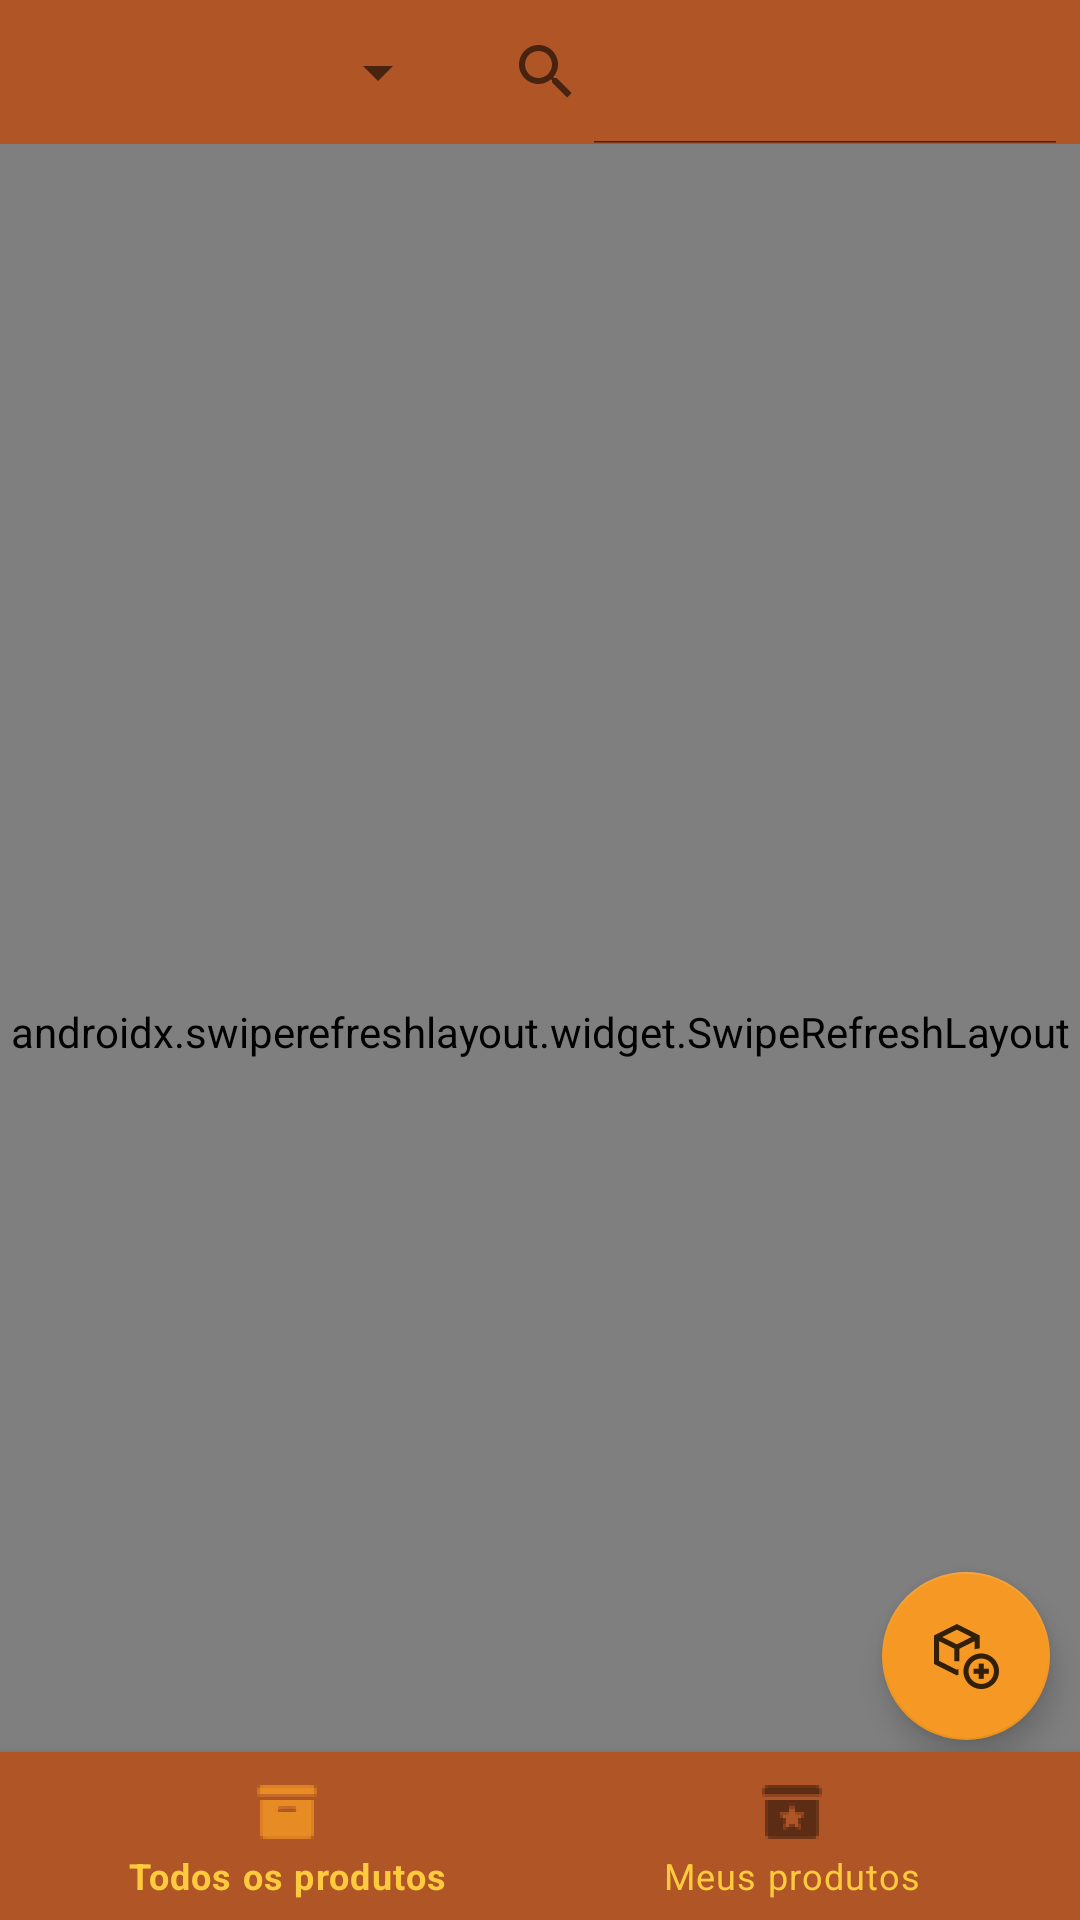

Named icons in this screenshot (1080x1920) and their centers, (x=x, y=y):
produto add: (x=966, y=1656)
